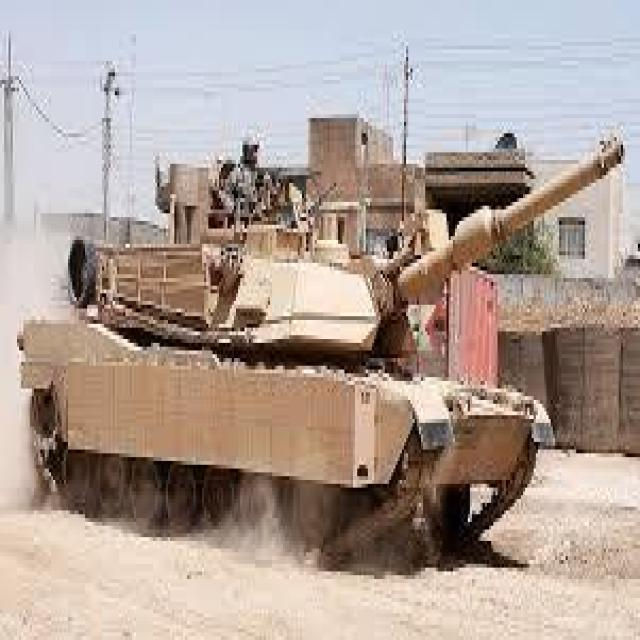Tanks: (17, 118, 623, 572)
